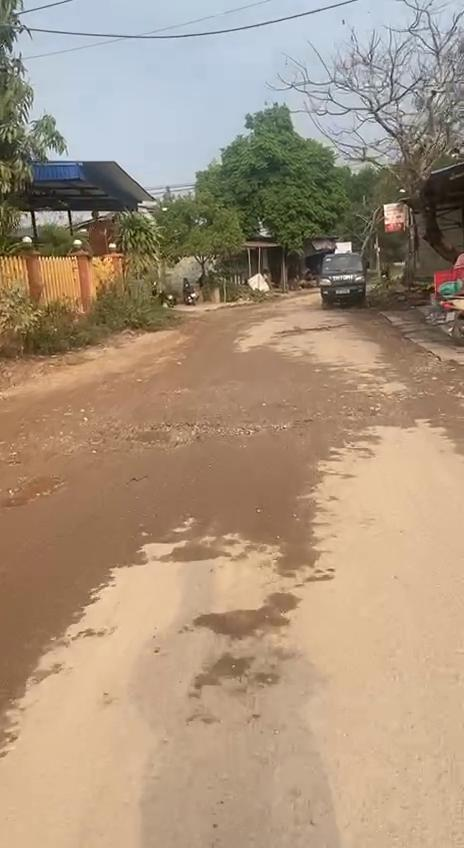pothole: (126, 420, 262, 451), (0, 474, 63, 511)
